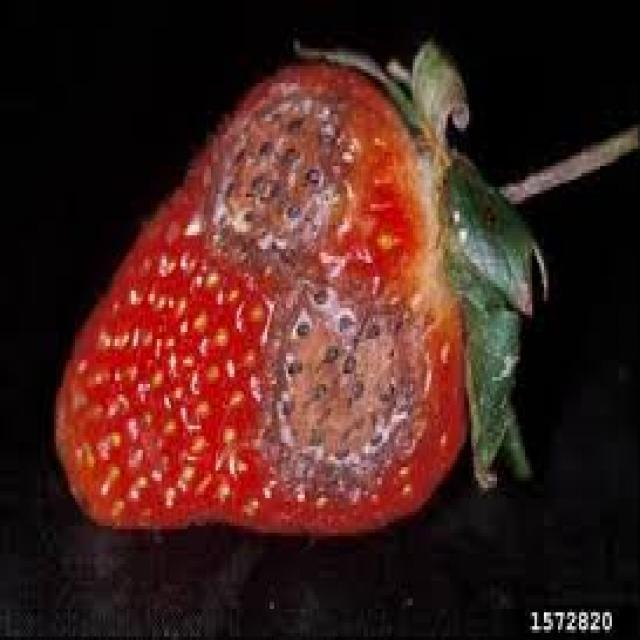Mancha negra Antracnosis: (51, 38, 486, 538)
